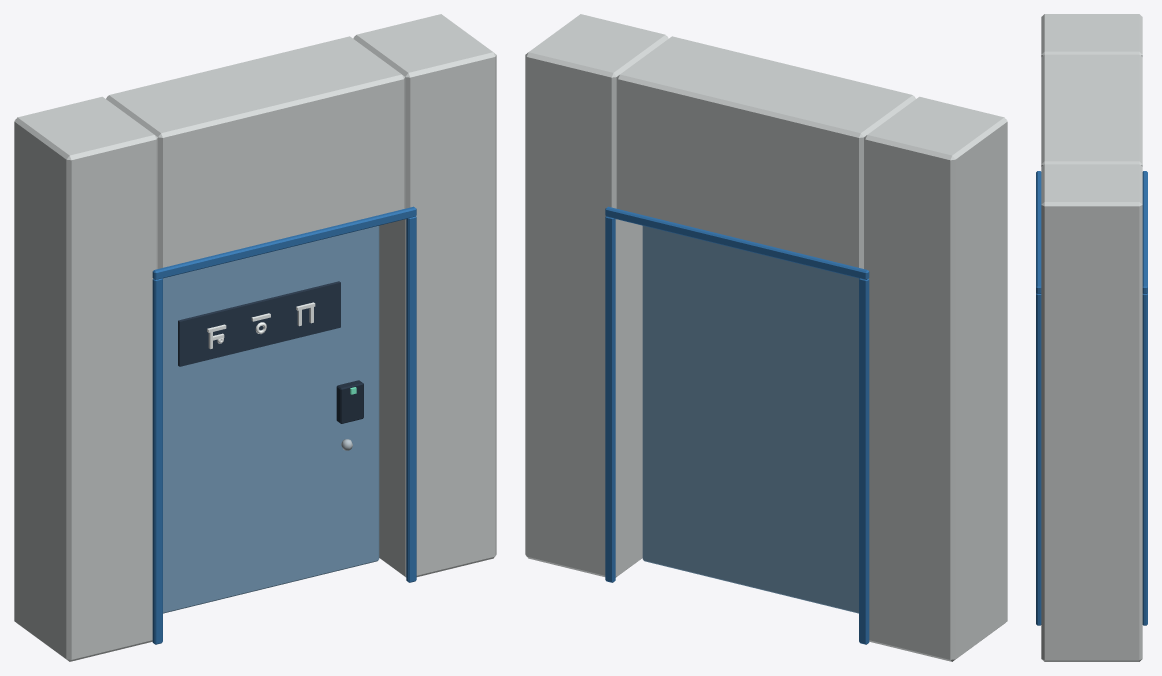
The model's file is door_locked.fbx.
3 renders of one model, left to right at view 1: azimuth 30°, elevation 25°; view 2: azimuth 150°, elevation 25°; view 3: azimuth 270°, elevation 25°, orthographic. The views are drawn at different scales.
Parts seen in each view (by area): view 1: door_locked, Door, Lock; view 2: door_locked, Door; view 3: door_locked.
Part boxes in pixels (x1=…): door_locked: x1=14, y1=14, x2=496, y2=661; Door: x1=163, y1=226, x2=379, y2=613; Lock: x1=336, y1=380, x2=363, y2=423; door_locked: x1=525, y1=14, x2=1007, y2=661; Door: x1=642, y1=226, x2=858, y2=613; door_locked: x1=1036, y1=14, x2=1147, y2=661.
Bounding box in the file's own units: 4 × 4.5 × 0.99.
